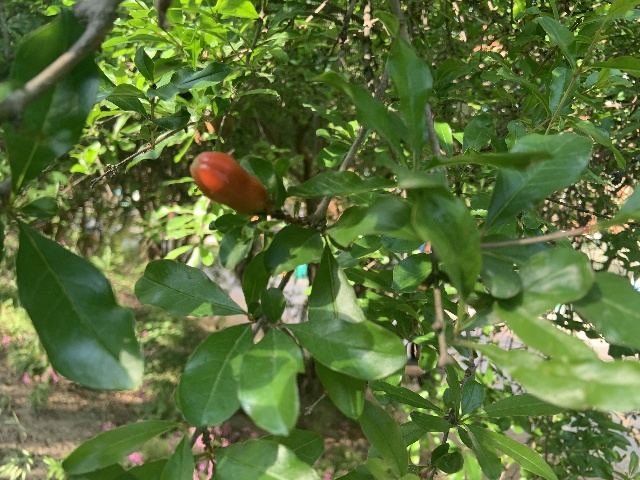bud: (191, 150, 270, 214)
